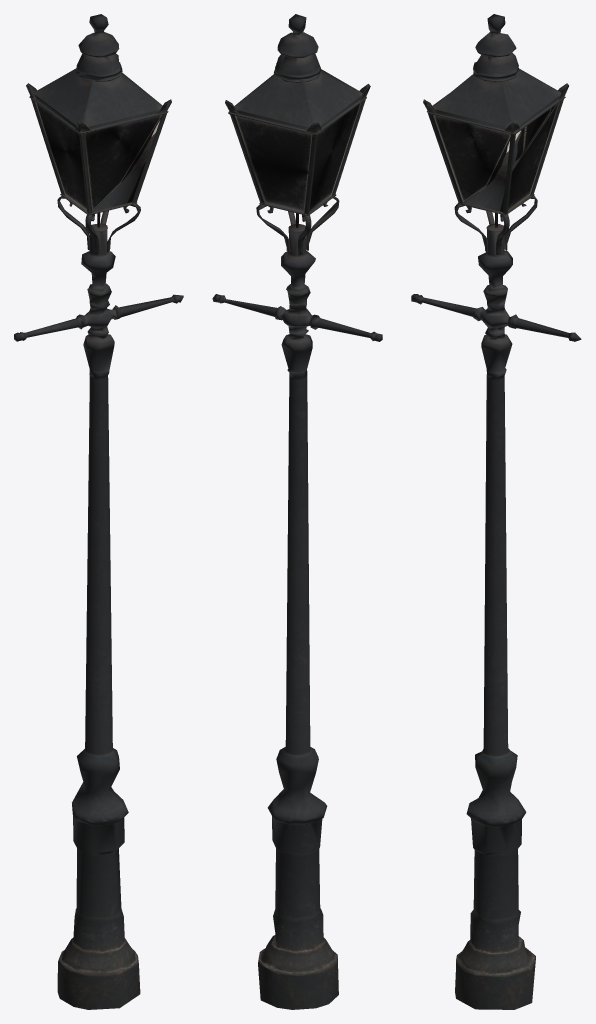
The model's file is street_lamp_01.gltf.
3 views of the same model, side by side, from view 1: azimuth 30°, elevation 25°; view 2: azimuth 150°, elevation 25°; view 3: azimuth 330°, elevation 25° (orthographic).
Bounding box in the file's own units: 0.6961 × 3.86 × 0.3863.
2 materials, 2 textured.
